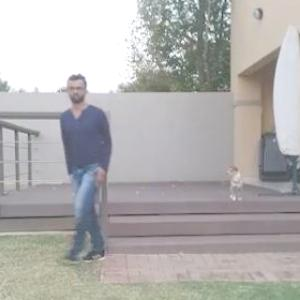follow: (60, 68, 122, 272)
